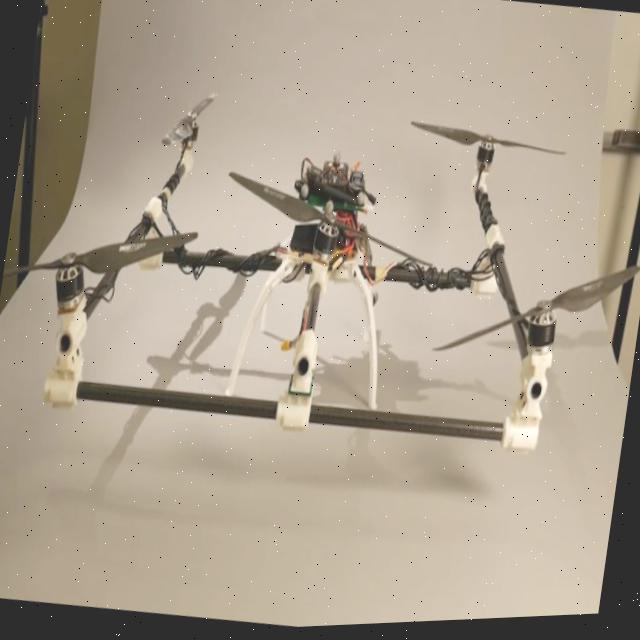drone: (0, 11, 640, 513)
